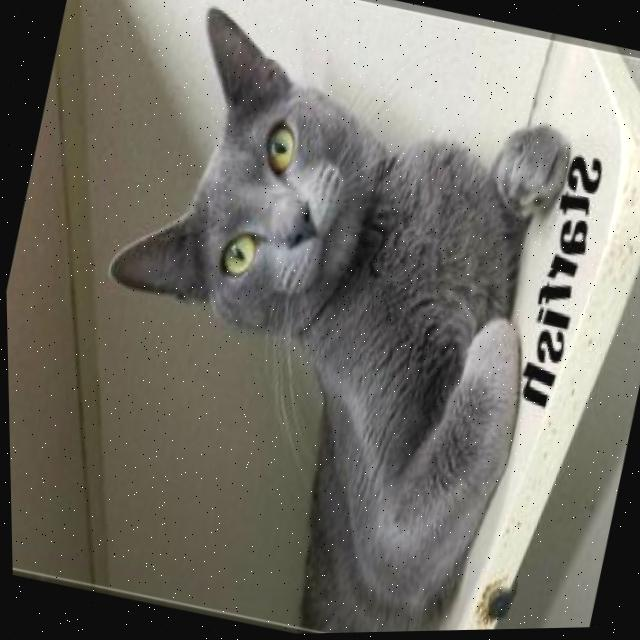Russian Blue: (25, 0, 592, 640)
